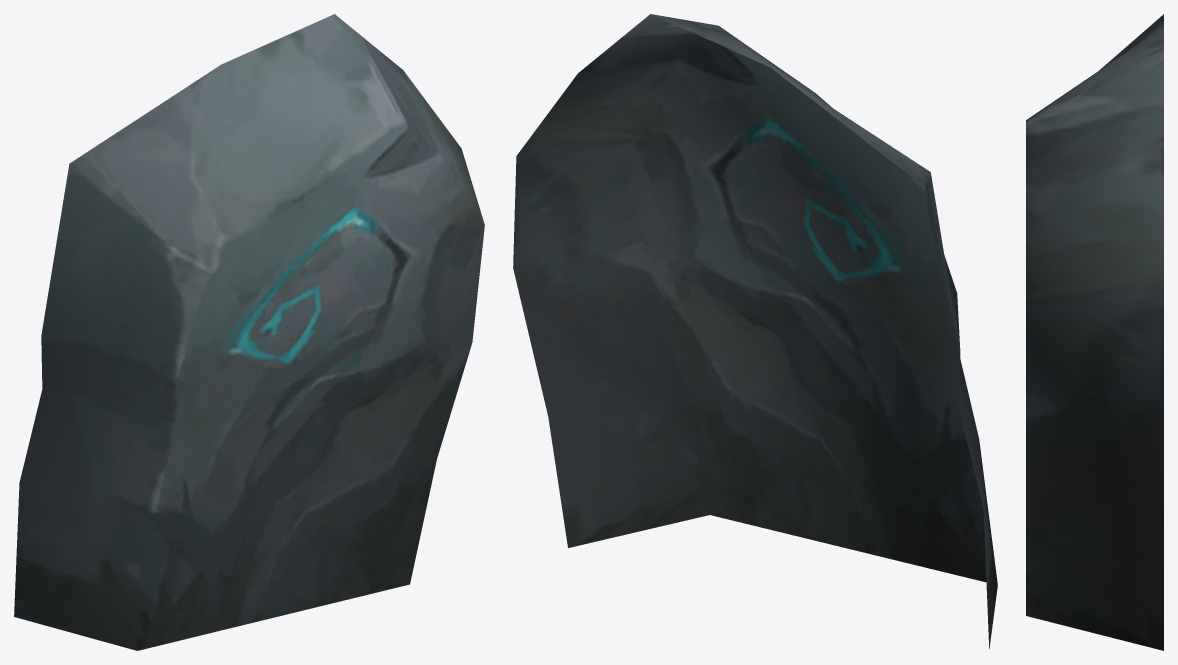
Rendered from yw_shanlin_magicstone_001.FBX.
3 renders of one model, left to right at view 1: azimuth 30°, elevation 25°; view 2: azimuth 150°, elevation 25°; view 3: azimuth 270°, elevation 25°, orthographic. The views are drawn at different scales.
Parts seen in each view (by area): view 1: yw_shanlin_magicstone_001; view 2: yw_shanlin_magicstone_001; view 3: yw_shanlin_magicstone_001.
Part boxes in pixels (x1=…): yw_shanlin_magicstone_001: x1=14, y1=14, x2=484, y2=650; yw_shanlin_magicstone_001: x1=513, y1=14, x2=997, y2=648; yw_shanlin_magicstone_001: x1=1026, y1=14, x2=1163, y2=650.
Bounding box in the file's own units: 282 × 71.23 × 314.
